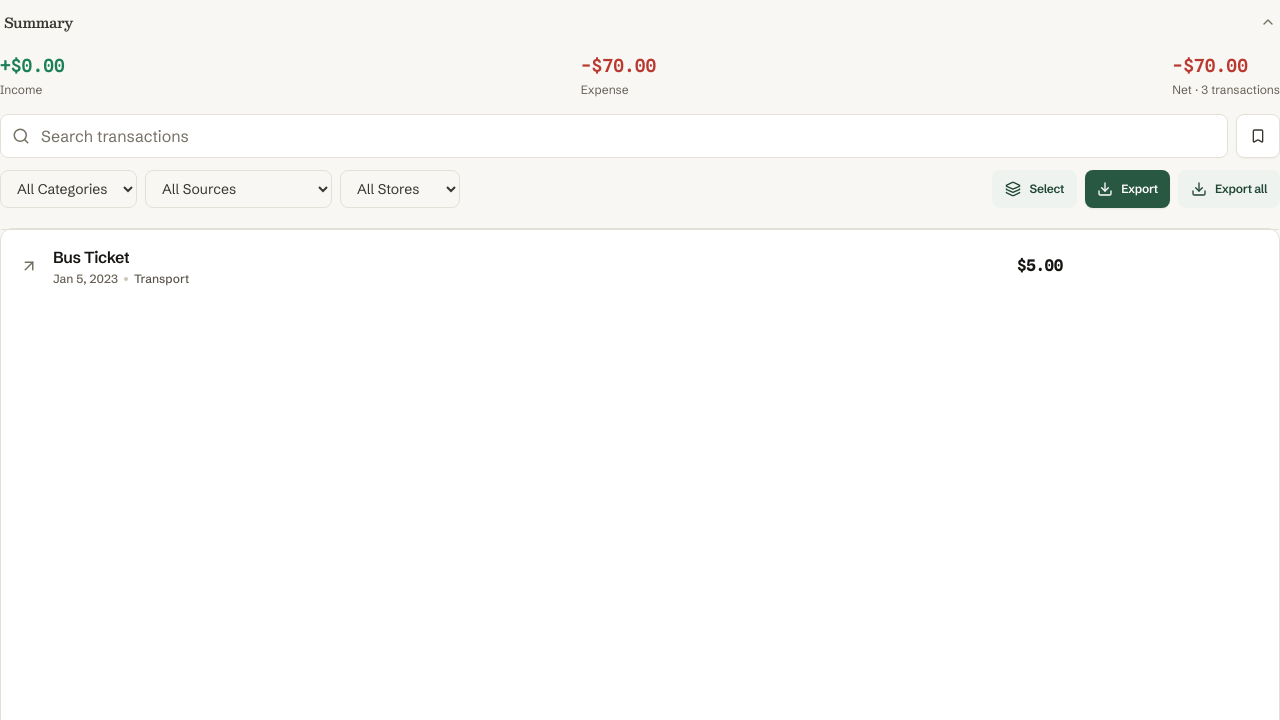
Test case: TransactionMasterList › Rendering & Sorting › renders empty state when no transactions match
Type "NonExistent" into the field with placeholder "Search transactions" at {"x": 614, "y": 136}, box [0,114,1228,158]
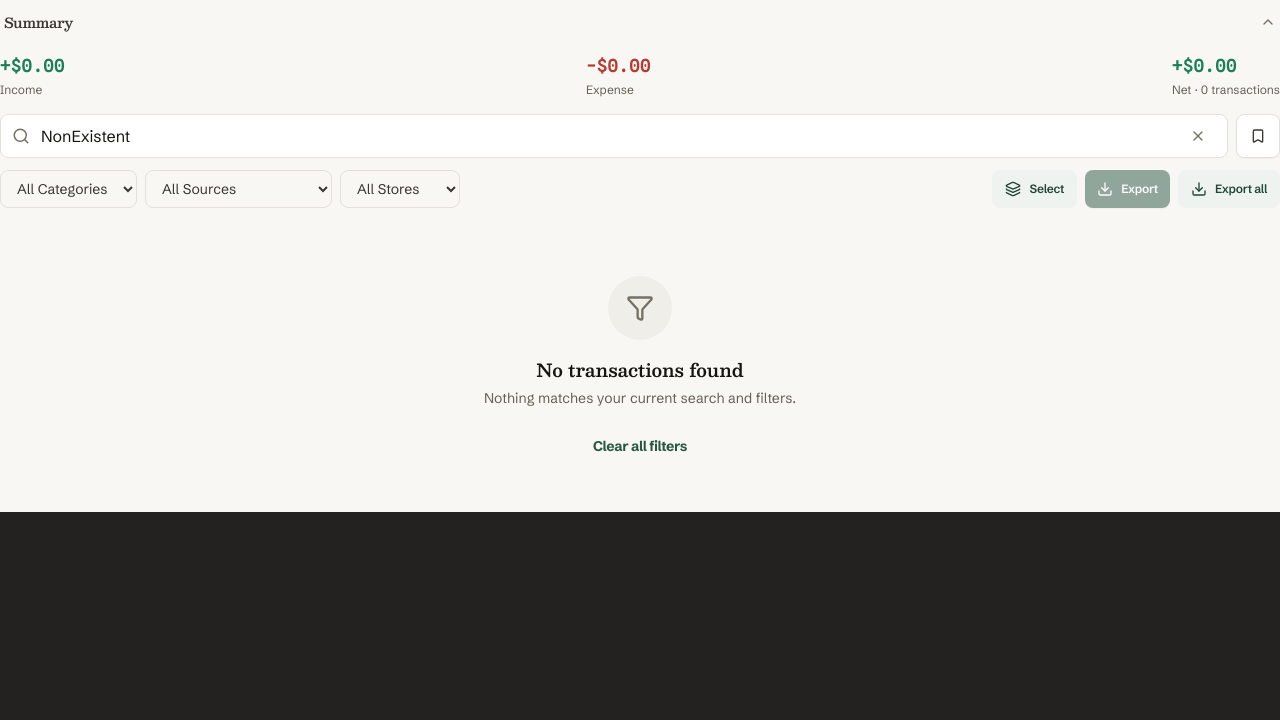
Expected: the heading "No transactions found" is shown, [536,356,744,384]
Expected: the button "Clear all filters" is shown, [577,428,703,464]
